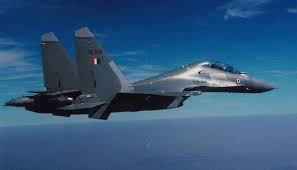maybay_muctieu: (14, 30, 275, 118)
